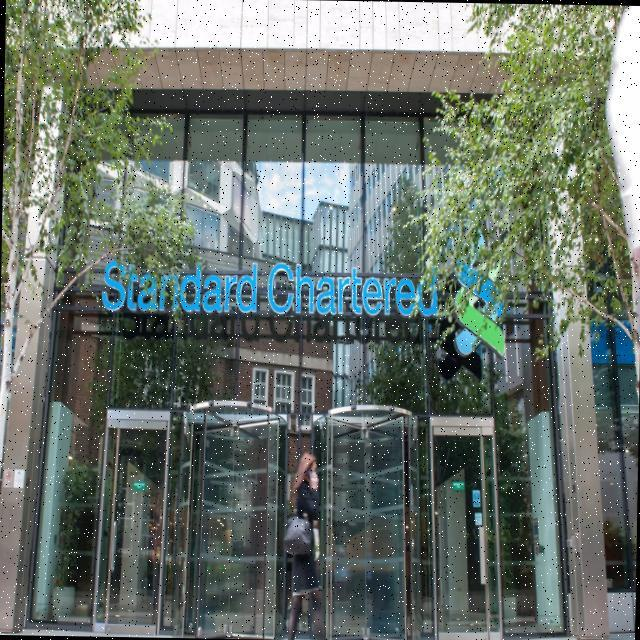Standard Chartered: (100, 205, 508, 362)
